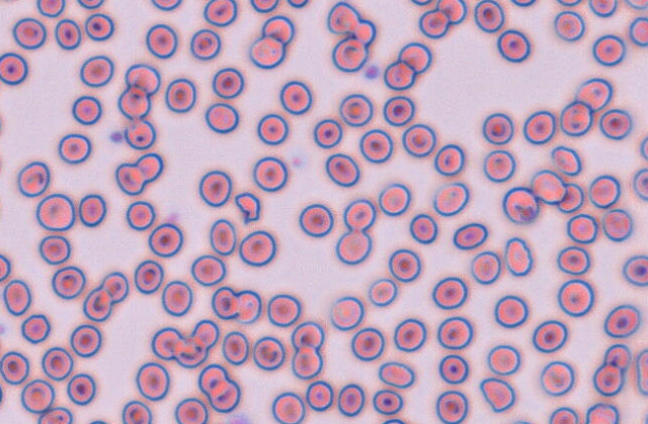PLT: (365, 66, 380, 79), (110, 130, 124, 143), (0, 321, 9, 336)
RBC: (35, 193, 75, 231), (557, 278, 594, 317), (238, 229, 276, 266), (135, 361, 170, 401), (331, 36, 367, 72), (252, 156, 288, 192), (335, 229, 372, 264), (603, 303, 640, 338), (198, 169, 232, 207), (147, 222, 183, 257), (433, 181, 469, 216), (575, 77, 612, 111), (20, 378, 55, 413), (531, 169, 566, 204), (329, 295, 364, 330), (325, 152, 360, 187), (540, 360, 574, 396), (559, 100, 593, 136), (17, 160, 50, 197), (436, 316, 473, 349), (503, 236, 533, 276), (298, 203, 333, 237), (532, 319, 567, 353), (493, 294, 528, 328), (401, 123, 436, 157), (359, 128, 393, 163), (207, 377, 240, 413), (249, 35, 285, 68), (431, 276, 467, 309), (51, 265, 85, 299), (350, 327, 384, 361), (496, 28, 530, 62), (522, 110, 556, 144), (252, 335, 285, 370), (279, 80, 312, 115), (124, 63, 160, 95), (190, 254, 226, 286), (161, 280, 193, 316), (164, 77, 196, 113), (173, 335, 207, 368), (150, 326, 183, 360), (117, 85, 150, 119), (326, 1, 360, 34), (69, 323, 102, 357), (267, 293, 301, 326), (79, 54, 113, 87), (393, 318, 426, 352), (388, 248, 421, 282), (339, 93, 373, 126), (145, 23, 177, 58), (343, 198, 376, 231), (435, 390, 468, 423), (291, 345, 323, 379), (271, 391, 305, 423), (41, 346, 73, 380), (12, 17, 46, 49), (588, 174, 620, 208), (378, 182, 410, 216), (592, 34, 626, 66), (204, 102, 239, 133), (2, 278, 31, 315), (398, 41, 431, 73), (592, 363, 624, 396), (211, 67, 244, 99), (601, 208, 633, 241), (483, 149, 515, 182), (486, 344, 520, 375), (470, 250, 501, 284), (57, 133, 91, 164), (133, 259, 163, 294), (208, 218, 236, 255), (123, 118, 155, 150), (256, 113, 288, 145), (433, 143, 464, 176), (599, 108, 632, 139), (290, 320, 324, 350), (82, 287, 112, 321), (556, 245, 590, 275), (452, 222, 488, 250), (473, 0, 504, 32), (550, 145, 582, 176), (382, 95, 414, 126), (566, 213, 598, 244), (189, 28, 220, 60), (482, 112, 513, 144), (115, 162, 145, 195), (66, 372, 96, 405), (0, 350, 29, 384), (221, 330, 249, 365), (378, 361, 414, 388), (71, 94, 102, 125), (554, 10, 585, 41), (383, 60, 415, 90), (38, 234, 70, 264), (261, 15, 294, 44), (78, 193, 106, 227), (337, 383, 365, 417), (438, 354, 469, 384), (211, 286, 239, 319), (0, 52, 28, 85), (125, 200, 155, 230), (418, 9, 449, 38), (21, 313, 50, 344), (409, 213, 438, 244), (235, 289, 261, 323), (174, 397, 208, 423), (203, 0, 237, 26), (190, 319, 219, 349), (313, 118, 342, 148), (305, 380, 333, 411), (101, 271, 128, 303), (135, 152, 163, 182), (84, 13, 114, 41), (557, 182, 584, 213), (54, 18, 81, 49), (368, 278, 397, 306), (372, 389, 403, 415), (622, 254, 647, 286), (603, 343, 631, 370), (585, 402, 619, 423), (121, 400, 152, 423), (437, 0, 466, 24), (37, 406, 73, 423), (635, 348, 647, 395), (629, 16, 647, 46), (548, 406, 579, 423), (632, 167, 647, 200), (36, 0, 65, 17), (588, 0, 617, 17), (249, 0, 278, 12), (151, 0, 182, 11), (0, 253, 11, 282), (76, 0, 104, 9), (624, 0, 647, 10), (286, 0, 309, 8), (640, 134, 647, 160), (510, 0, 535, 7), (556, 0, 582, 6), (409, 0, 433, 6), (0, 383, 5, 409), (87, 419, 109, 424), (0, 0, 22, 3)
Schistocyte: (480, 378, 519, 413), (504, 186, 540, 223), (235, 193, 260, 225), (353, 21, 376, 45)
